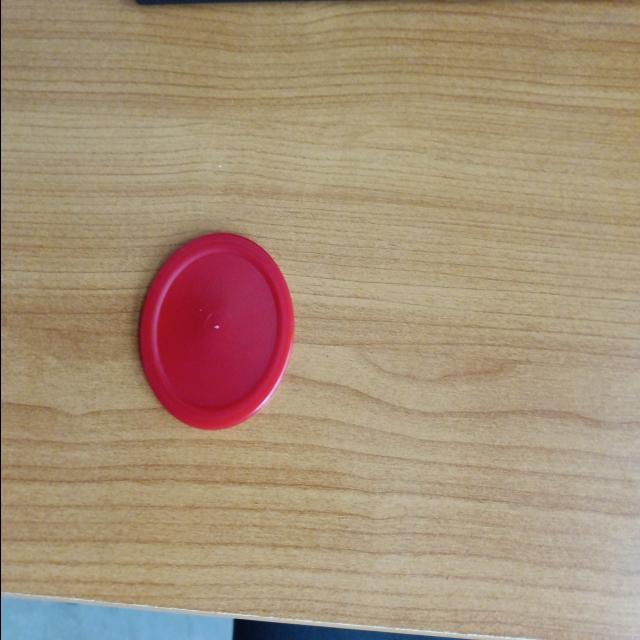chip: (137, 226, 297, 434)
